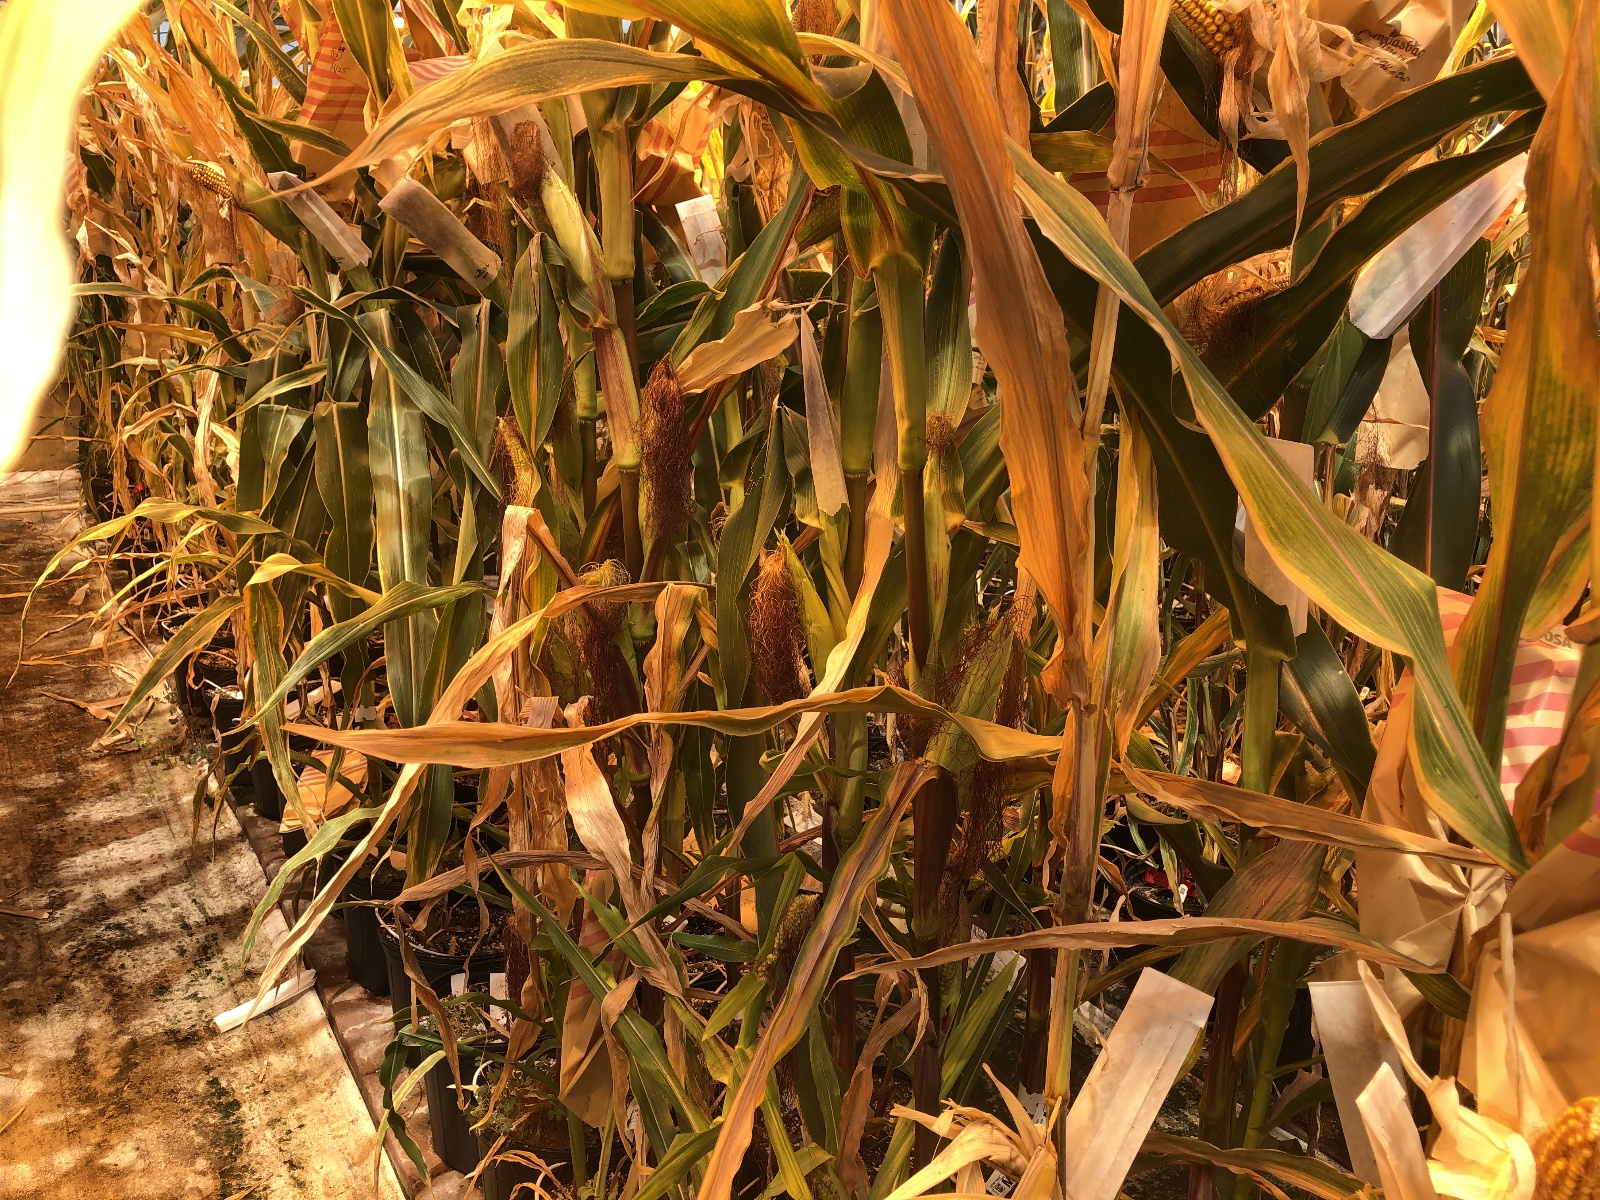ear: (927, 608, 1020, 805), (517, 117, 609, 294), (763, 518, 845, 689), (632, 349, 692, 541), (495, 408, 576, 546), (180, 151, 292, 234), (913, 408, 959, 600), (1182, 250, 1299, 321), (1531, 1087, 1595, 1197), (1153, 3, 1259, 62)
